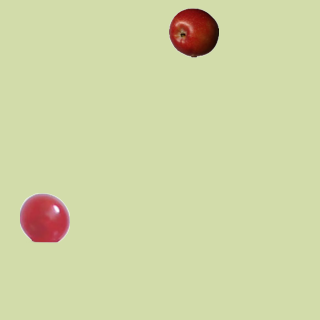Apple Braeburn: (168, 7, 218, 57)
Redcurrant: (19, 192, 69, 242)
